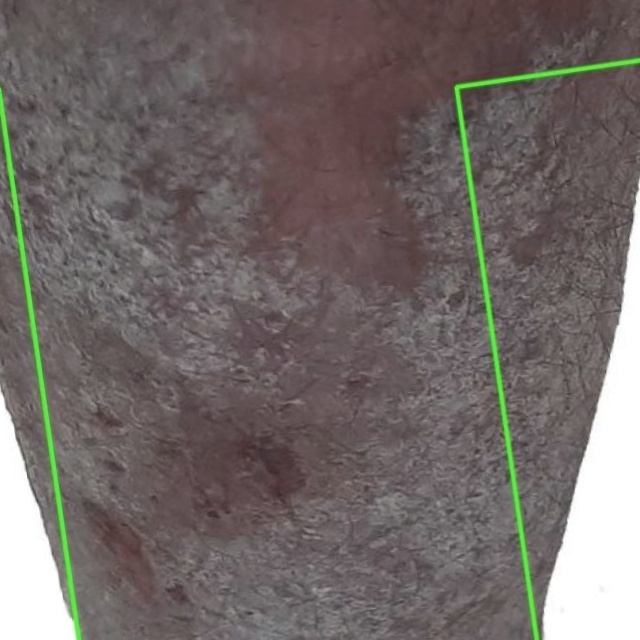Contact Dermatitis: (456, 60, 639, 639)
